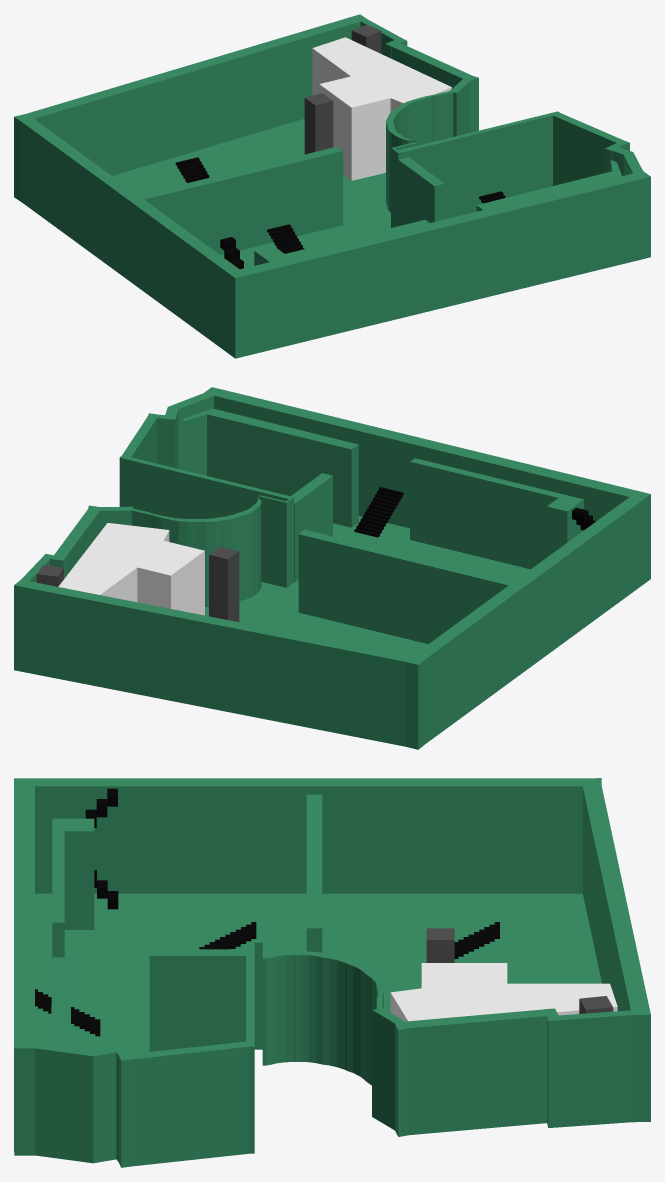
The picture shows the model from 3 angles, top to bottom: view 1: azimuth 30°, elevation 25°; view 2: azimuth 150°, elevation 25°; view 3: azimuth 270°, elevation 25°; orthographic projection. The views are drawn at different scales.
Parts seen in each view (by area): view 1: object, 書庫_9_M3_1, エレベーター_9_M3_2, 階段_9_M3_2, エレベーター_9_M3_1, 階段_9_M3_1; view 2: object, 書庫_9_M3_1, エレベーター_9_M3_2, 階段_9_M3_4; view 3: object, 書庫_9_M3_1, 階段_9_M3_5, エレベーター_9_M3_2, 階段_9_M3_4, 階段_9_M3_1, 階段_9_M3_2.
Part boxes in pixels (x1,y1,x2,y2): object: (14,14,650,358); 書庫_9_M3_1: (312,37,451,180); エレベーター_9_M3_2: (304,93,333,154); 階段_9_M3_2: (267,224,304,253); エレベーター_9_M3_1: (351,24,381,53); 階段_9_M3_1: (175,157,209,182); object: (14,387,650,749); 書庫_9_M3_1: (58,523,204,615); エレベーター_9_M3_2: (209,546,239,621); 階段_9_M3_4: (354,487,403,537); object: (14,778,650,1167); 書庫_9_M3_1: (390,963,617,1021); 階段_9_M3_5: (85,788,118,909); エレベーター_9_M3_2: (426,928,454,962); 階段_9_M3_4: (35,989,100,1036); 階段_9_M3_1: (454,922,499,958); 階段_9_M3_2: (199,922,256,949).
Bounding box in the file's own units: 1 × 0.1899 × 0.9533.
